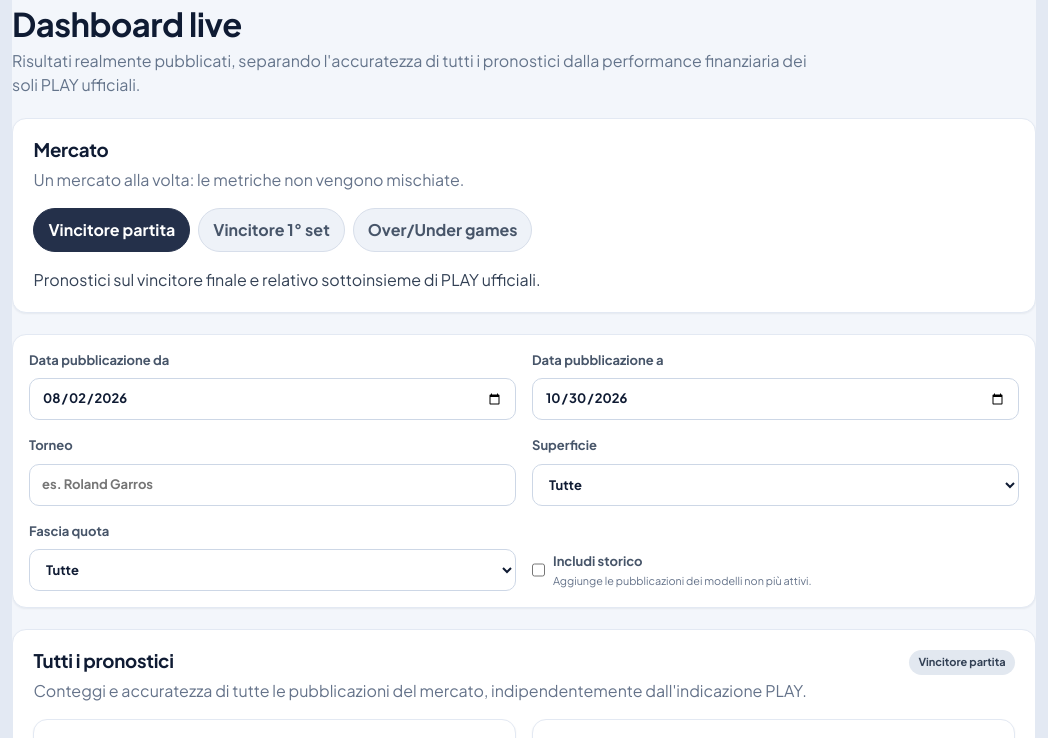
LiveBetaDashboardPage › renders first-set market like other quoted markets and hides archived filter
Expected: the heading "Dashboard live" is shown, [12,3,242,44]
Click the tab "Vincitore 1° set" at [272, 230], box [198,208,345,252]
(page scrolled)
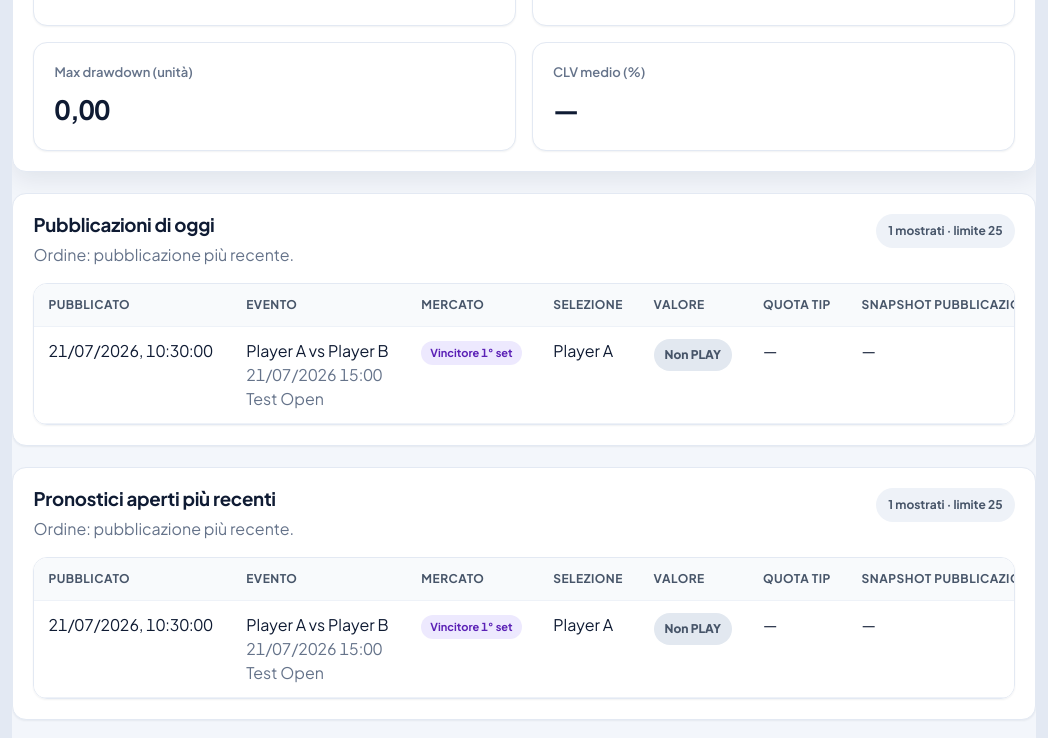
Expected: the field labelled "Includi storico" is gone
Expected: the 1st text "Non PLAY" is shown, [654,339,732,371]
